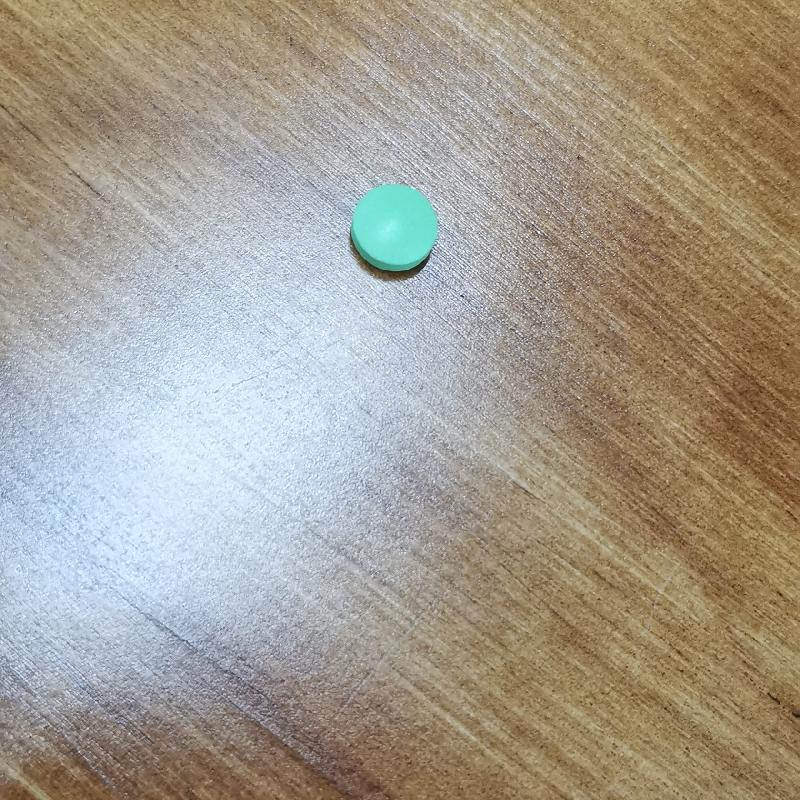pills: (334, 173, 455, 303)
